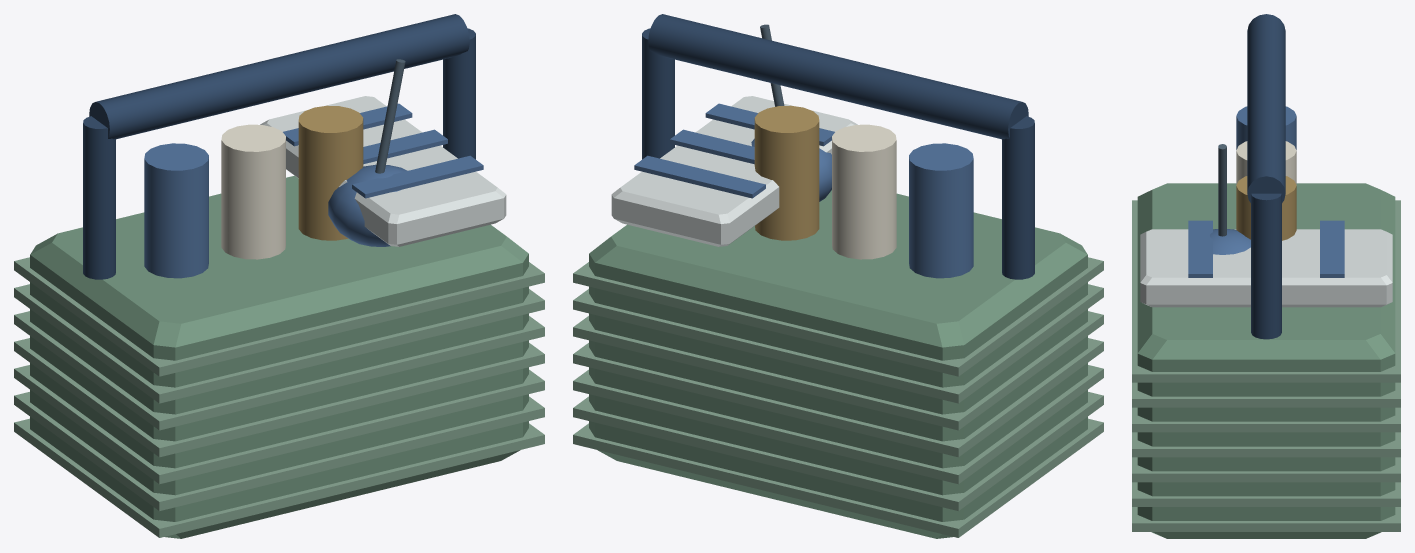
The model's file is v18_sewing_basket.glb.
The picture shows the model from 3 angles, left to right: view 1: azimuth 30°, elevation 25°; view 2: azimuth 150°, elevation 25°; view 3: azimuth 270°, elevation 25°; orthographic projection. The views are drawn at different scales.
Visible parts, largest first — view 1: _MeshInstance3D_2589, _MeshInstance3D_2599, _MeshInstance3D_2605, _MeshInstance3D_2601, _MeshInstance3D_2600, _MeshInstance3D_2596, _MeshInstance3D_2591, _MeshInstance3D_2593, _MeshInstance3D_2595, _MeshInstance3D_2590, _MeshInstance3D_2592, _MeshInstance3D_2594 (+8 smaller); view 2: _MeshInstance3D_2589, _MeshInstance3D_2599, _MeshInstance3D_2605, _MeshInstance3D_2601, _MeshInstance3D_2600, _MeshInstance3D_2602, _MeshInstance3D_2596, _MeshInstance3D_2591, _MeshInstance3D_2593, _MeshInstance3D_2595, _MeshInstance3D_2590, _MeshInstance3D_2592 (+7 smaller); view 3: _MeshInstance3D_2589, _MeshInstance3D_2605, _MeshInstance3D_2599, _MeshInstance3D_2596, _MeshInstance3D_2598, _MeshInstance3D_2592, _MeshInstance3D_2593, _MeshInstance3D_2594, _MeshInstance3D_2595, _MeshInstance3D_2590, _MeshInstance3D_2591, _MeshInstance3D_2602 (+6 smaller).
Boxes of the visible parts, left/top/right/bottom form: _MeshInstance3D_2589: left=30, top=175, right=528, bottom=538; _MeshInstance3D_2599: left=89, top=14, right=469, bottom=139; _MeshInstance3D_2605: left=260, top=96, right=506, bottom=246; _MeshInstance3D_2601: left=221, top=124, right=285, bottom=259; _MeshInstance3D_2600: left=144, top=143, right=208, bottom=278; _MeshInstance3D_2596: left=14, top=257, right=544, bottom=376; _MeshInstance3D_2591: left=14, top=392, right=544, bottom=510; _MeshInstance3D_2593: left=14, top=338, right=544, bottom=457; _MeshInstance3D_2595: left=14, top=284, right=544, bottom=403; _MeshInstance3D_2590: left=14, top=418, right=544, bottom=537; _MeshInstance3D_2592: left=14, top=365, right=544, bottom=484; _MeshInstance3D_2594: left=14, top=311, right=544, bottom=430; _MeshInstance3D_2589: left=589, top=190, right=1087, bottom=538; _MeshInstance3D_2599: left=648, top=14, right=1028, bottom=139; _MeshInstance3D_2605: left=611, top=96, right=857, bottom=246; _MeshInstance3D_2601: left=832, top=124, right=896, bottom=259; _MeshInstance3D_2600: left=909, top=143, right=973, bottom=278; _MeshInstance3D_2602: left=754, top=105, right=819, bottom=240; _MeshInstance3D_2596: left=573, top=257, right=1103, bottom=376; _MeshInstance3D_2591: left=573, top=392, right=1103, bottom=510; _MeshInstance3D_2593: left=573, top=338, right=1103, bottom=457; _MeshInstance3D_2595: left=573, top=284, right=1103, bottom=403; _MeshInstance3D_2590: left=573, top=418, right=1103, bottom=537; _MeshInstance3D_2592: left=573, top=365, right=1103, bottom=484; _MeshInstance3D_2589: left=1137, top=183, right=1395, bottom=538; _MeshInstance3D_2605: left=1140, top=229, right=1392, bottom=307; _MeshInstance3D_2599: left=1247, top=14, right=1285, bottom=202; _MeshInstance3D_2596: left=1132, top=200, right=1400, bottom=382; _MeshInstance3D_2598: left=1251, top=193, right=1281, bottom=339; _MeshInstance3D_2592: left=1132, top=457, right=1400, bottom=482; _MeshInstance3D_2593: left=1132, top=432, right=1400, bottom=457; _MeshInstance3D_2594: left=1132, top=407, right=1400, bottom=432; _MeshInstance3D_2595: left=1132, top=382, right=1400, bottom=407; _MeshInstance3D_2590: left=1132, top=507, right=1400, bottom=531; _MeshInstance3D_2591: left=1132, top=482, right=1400, bottom=506; _MeshInstance3D_2602: left=1236, top=176, right=1296, bottom=240.
Bounding box in the file's own units: 0.6686 × 0.65 × 0.4333.
